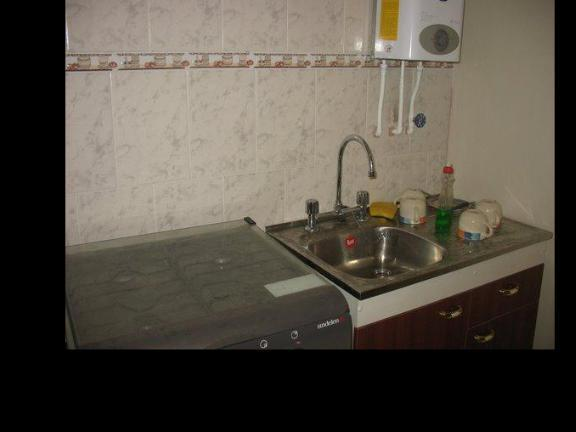Electrodomestico: (67, 235, 346, 349)
Lavaplatos: (295, 147, 450, 289)
